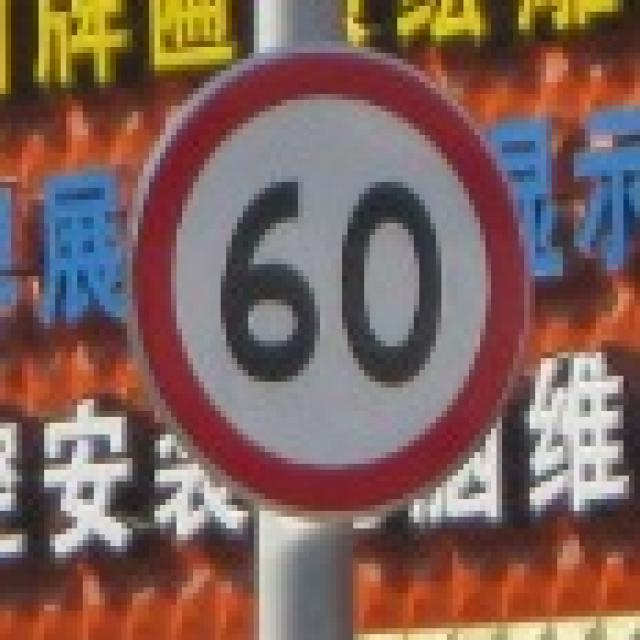Speed Limit -60-: (216, 171, 450, 389)
